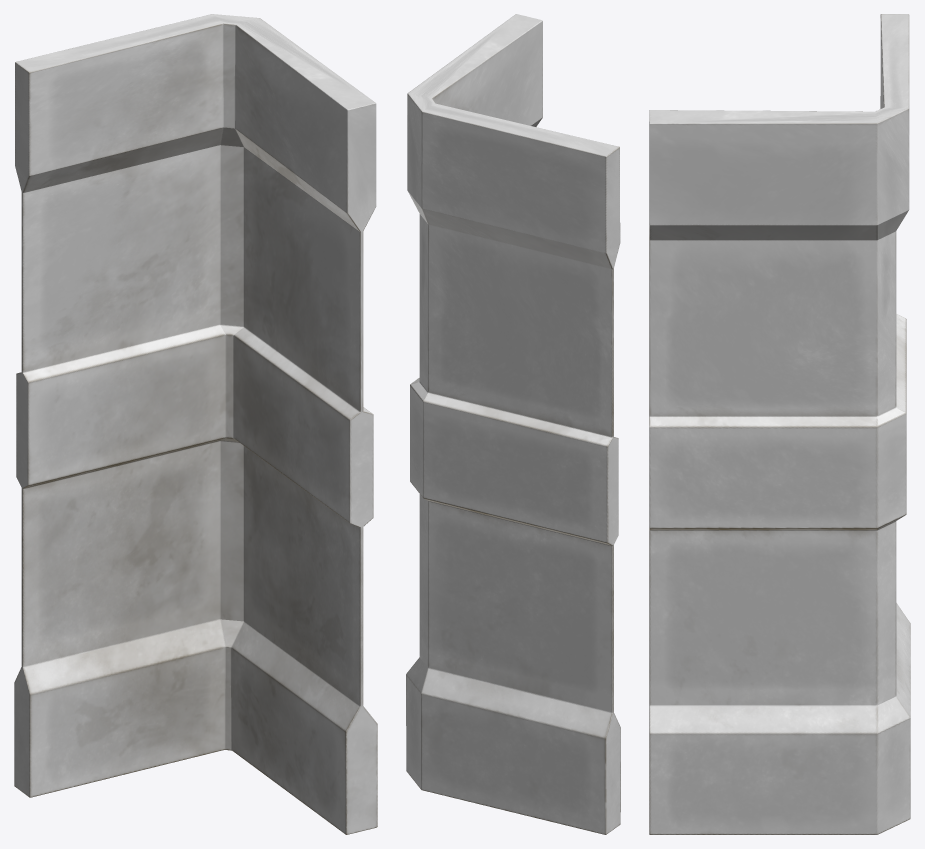
Rendered from Wall angled.glb.
The picture shows the model from 3 angles, left to right: view 1: azimuth 30°, elevation 25°; view 2: azimuth 150°, elevation 25°; view 3: azimuth 270°, elevation 25°; orthographic projection. The views are drawn at different scales.
Visible parts, largest first — view 1: Straight Wall Base Angle; view 2: Straight Wall Base Angle; view 3: Straight Wall Base Angle.
Part boxes in pixels (x1,y1,x2,y2): Straight Wall Base Angle: (14, 14, 377, 834); Straight Wall Base Angle: (406, 14, 620, 834); Straight Wall Base Angle: (649, 14, 910, 834).
Size of the model in its own units: 1 by 3 by 1.
Materials: 1 (1 with a texture image).
